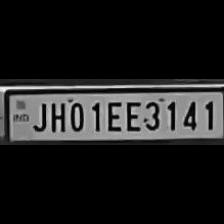0: (66, 98, 86, 132)
1: (86, 98, 104, 132), (200, 98, 218, 130), (162, 97, 178, 130)
3: (141, 97, 161, 130)
4: (178, 98, 198, 130)
E: (102, 98, 122, 132), (123, 99, 141, 131)
H: (46, 99, 66, 133)
J: (30, 98, 48, 132)
